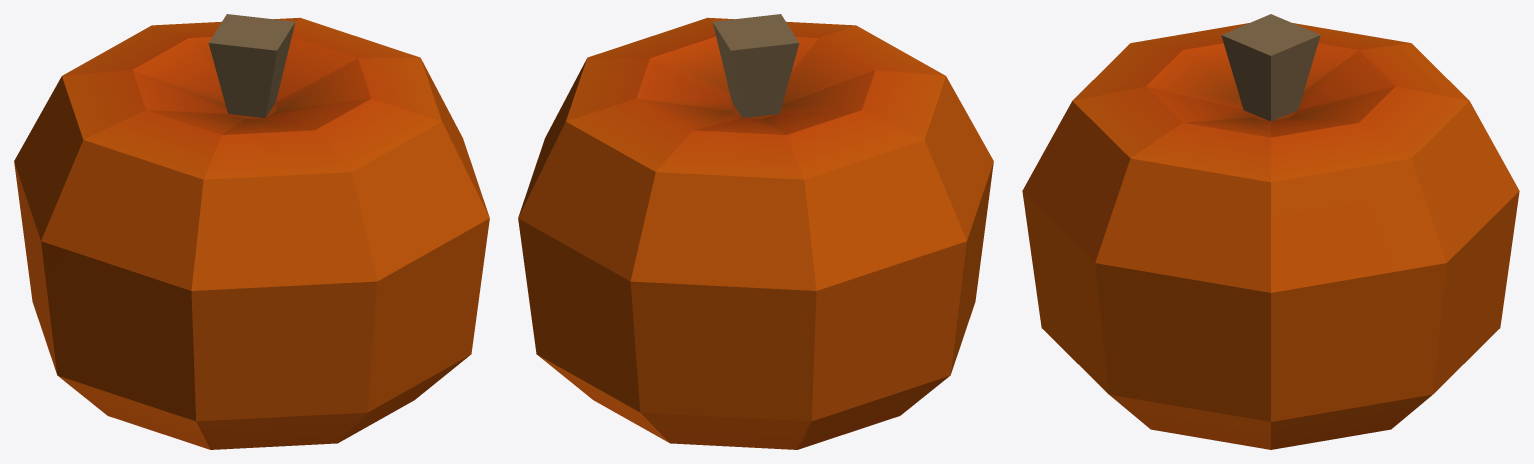
The picture shows the model from 3 angles, left to right: view 1: azimuth 30°, elevation 25°; view 2: azimuth 150°, elevation 25°; view 3: azimuth 270°, elevation 25°; orthographic projection.
Visible parts, largest first — view 1: body_band, stalk; view 2: body_band, stalk; view 3: body_band, stalk.
Part boxes in pixels (x1,y1,x2,y2): body_band: [14, 17, 489, 449]; stalk: [208, 14, 295, 117]; body_band: [518, 17, 993, 449]; stalk: [712, 14, 799, 117]; body_band: [1022, 23, 1519, 449]; stalk: [1221, 14, 1320, 121].
Bounding box in the file's own units: 0.2428 × 0.2055 × 0.25.
